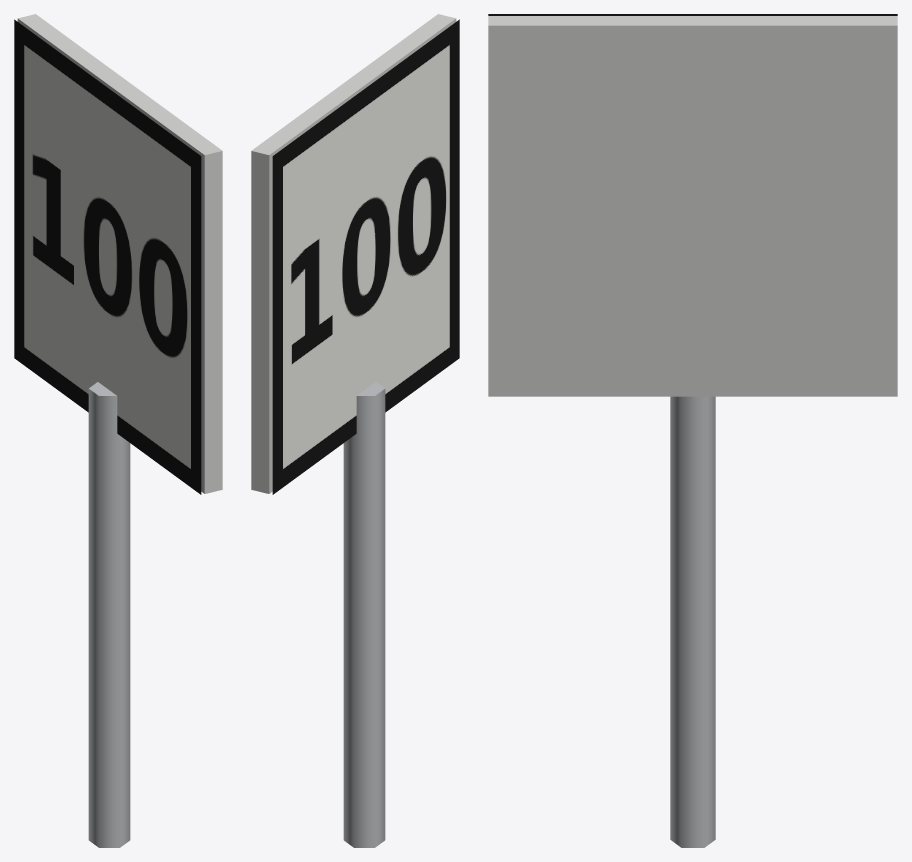
Rendered from SM_DistanceBoard_100.fbx.
3 renders of one model, left to right at view 1: azimuth 30°, elevation 25°; view 2: azimuth 150°, elevation 25°; view 3: azimuth 270°, elevation 25°, orthographic. The views are drawn at different scales.
Visible parts, largest first — view 1: SM_DistanceBoard_100; view 2: SM_DistanceBoard_100; view 3: SM_DistanceBoard_100.
Boxes of the visible parts, x1,y1,x2,y2 form: SM_DistanceBoard_100: (14, 14, 222, 847); SM_DistanceBoard_100: (251, 14, 459, 847); SM_DistanceBoard_100: (488, 14, 897, 847).
Bounding box in the file's own units: 9.83 × 200 × 90.
